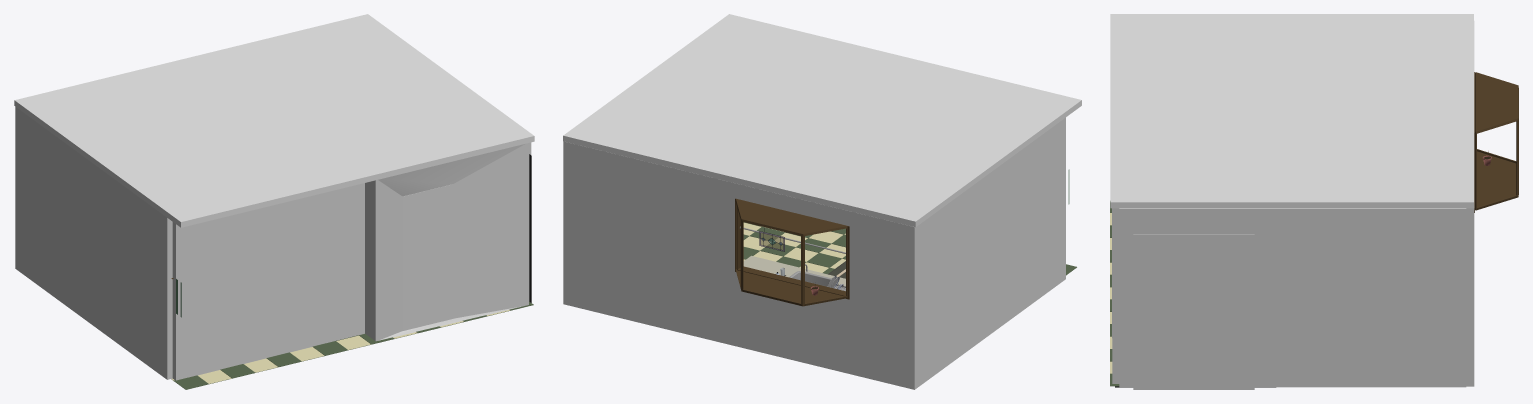
Rendered from kitchen_gltf_no_window_cover_single_obj.gltf.
3 views of the same model, side by side, from view 1: azimuth 30°, elevation 25°; view 2: azimuth 150°, elevation 25°; view 3: azimuth 270°, elevation 25° (orthographic). The views are drawn at different scales.
Visible parts, largest first — view 1: boolean 2.005; view 2: boolean 2.005; view 3: boolean 2.005.
Boxes of the visible parts, x1,y1,x2,y2 form: boolean 2.005: (14, 14, 534, 389); boolean 2.005: (563, 14, 1081, 389); boolean 2.005: (1110, 14, 1518, 389).
Size of the model in its own units: 5.56 by 2.56 by 5.07.
